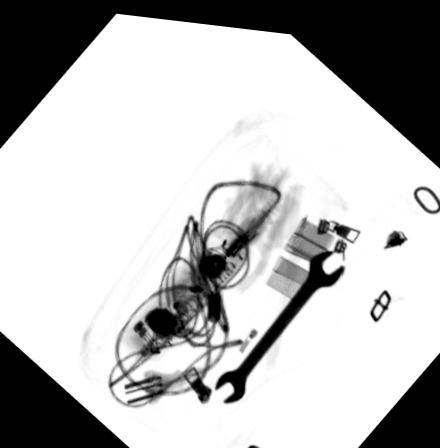Wrench: (211, 240, 345, 401)
